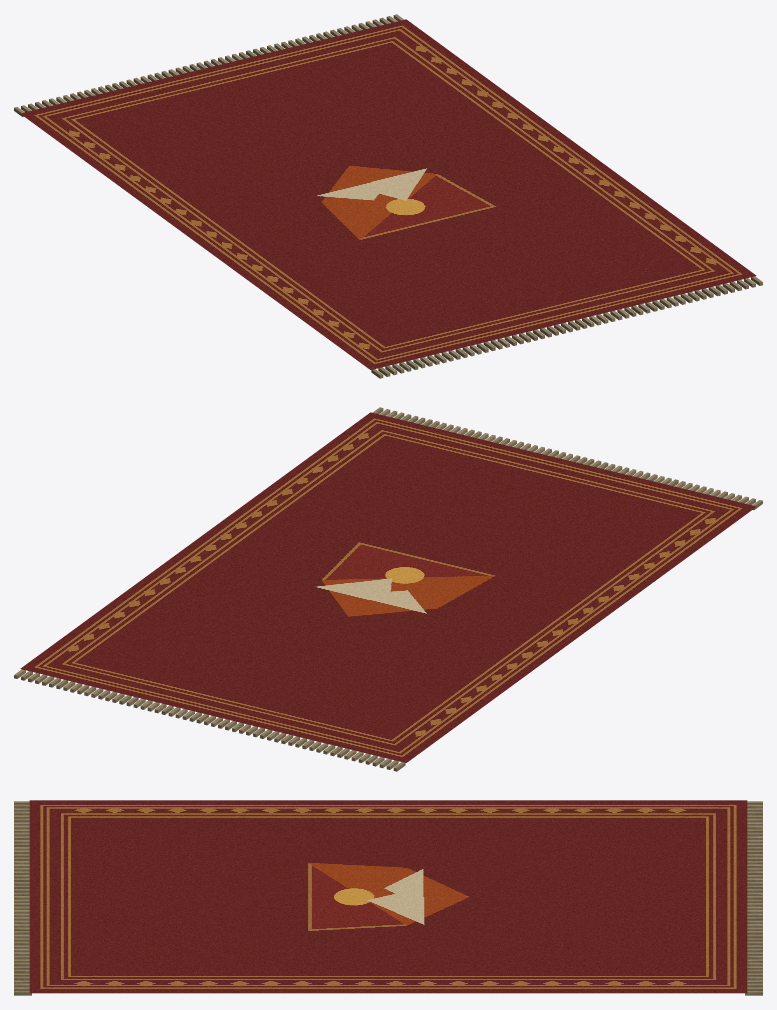
File: carpet_side.glb
3 renders of one model, top to bottom at view 1: azimuth 30°, elevation 25°; view 2: azimuth 150°, elevation 25°; view 3: azimuth 270°, elevation 25°, orthographic. The views are drawn at different scales.
Parts seen in each view (by area): view 1: Carpet_Side_000; view 2: Carpet_Side_000; view 3: Carpet_Side_000.
Boxes of the visible parts, x1,y1,x2,y2 form: Carpet_Side_000: (20,19,756,369); Carpet_Side_000: (20,412,756,762); Carpet_Side_000: (29,800,747,993).
Bounding box in the file's own units: 1.4 × 0.0115 × 2.3.
2 materials, 2 textured.
